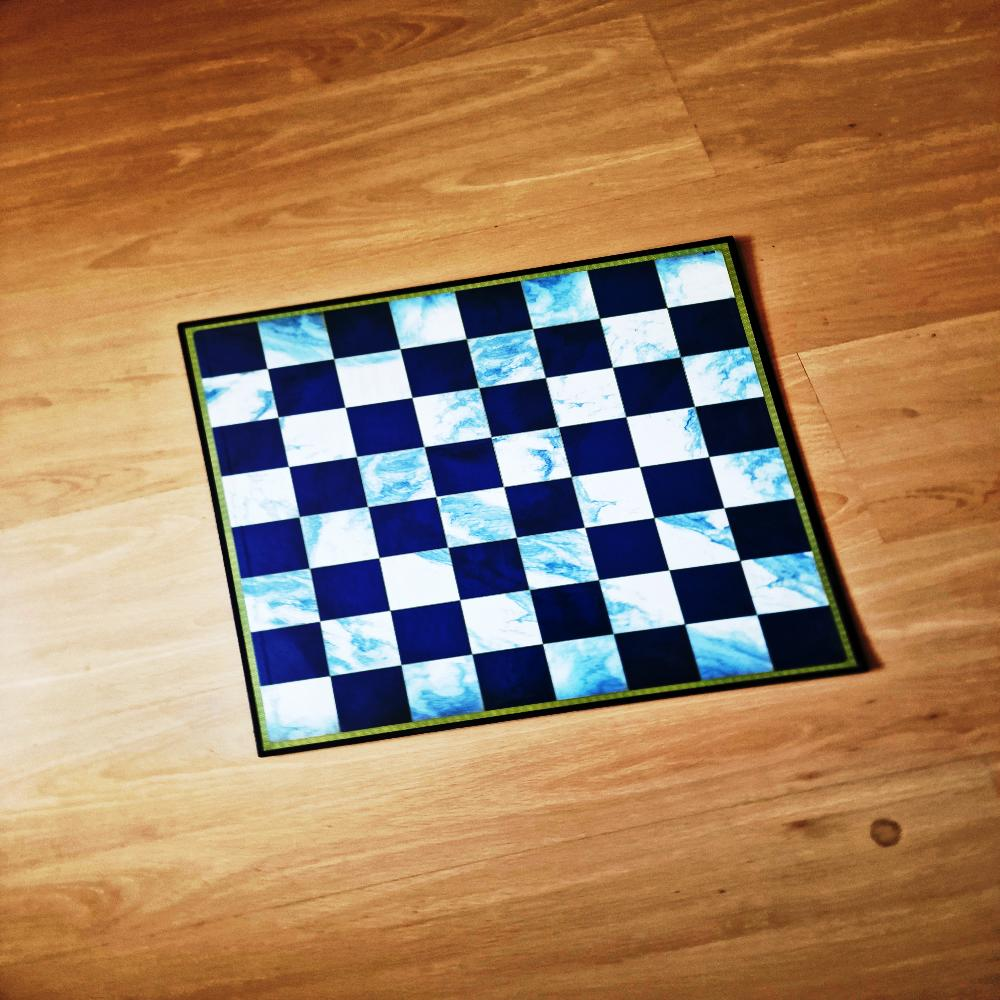chessfield: (679, 617, 767, 684), (535, 635, 622, 701), (592, 568, 680, 633), (394, 656, 478, 721), (611, 627, 696, 691), (752, 607, 838, 669), (454, 591, 538, 654), (640, 514, 728, 574), (311, 615, 393, 679), (652, 246, 734, 309), (521, 580, 605, 641), (471, 646, 553, 708), (384, 291, 467, 352), (328, 670, 409, 732), (251, 308, 332, 370), (375, 549, 457, 610), (509, 530, 590, 591), (428, 492, 508, 553), (258, 679, 334, 743), (704, 448, 786, 507), (661, 562, 743, 621), (518, 272, 598, 332), (568, 468, 648, 528), (346, 446, 427, 505), (292, 512, 373, 571), (541, 368, 620, 428), (388, 602, 467, 662), (735, 554, 814, 614), (489, 428, 569, 487), (597, 311, 678, 369), (620, 411, 701, 469), (249, 624, 326, 685), (406, 392, 484, 452), (674, 346, 753, 405), (719, 504, 802, 560), (438, 541, 518, 599), (272, 411, 352, 469), (303, 559, 381, 618), (239, 568, 317, 627), (579, 522, 659, 579), (464, 329, 542, 387), (326, 349, 405, 406), (613, 359, 692, 416), (363, 502, 442, 559), (633, 457, 712, 514), (500, 484, 578, 541), (452, 284, 530, 341), (283, 457, 361, 514), (584, 261, 663, 317), (211, 466, 287, 524), (186, 320, 263, 377), (692, 400, 770, 456), (263, 360, 339, 417), (667, 299, 743, 356), (395, 340, 472, 396), (557, 420, 635, 475), (342, 401, 420, 456), (420, 439, 498, 493), (476, 380, 552, 435), (228, 522, 304, 577), (200, 370, 273, 427), (531, 321, 607, 375), (320, 304, 395, 358), (212, 420, 285, 474)
